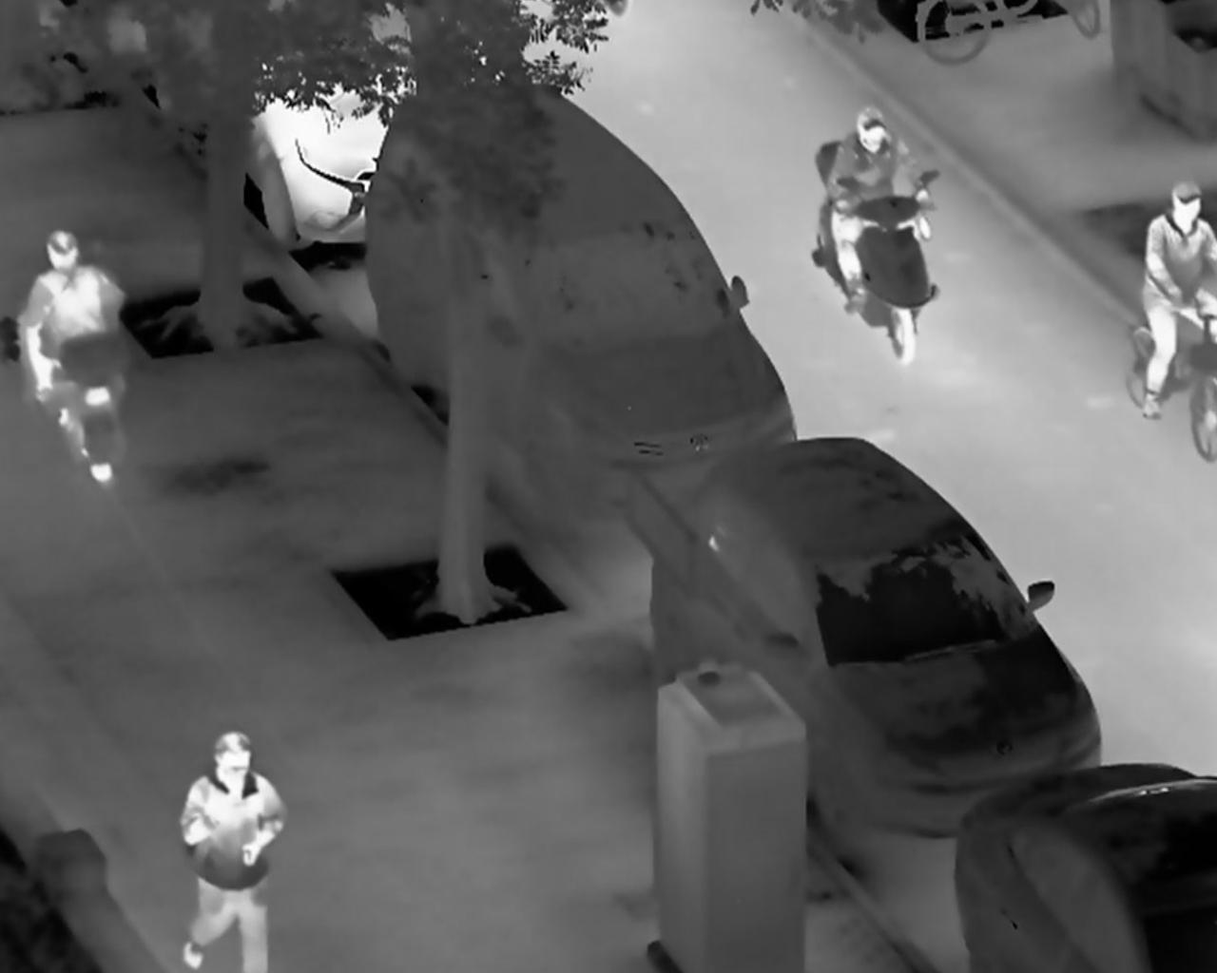person: (179, 730, 289, 973), (823, 104, 937, 315), (16, 227, 130, 419), (1139, 181, 1215, 424)
